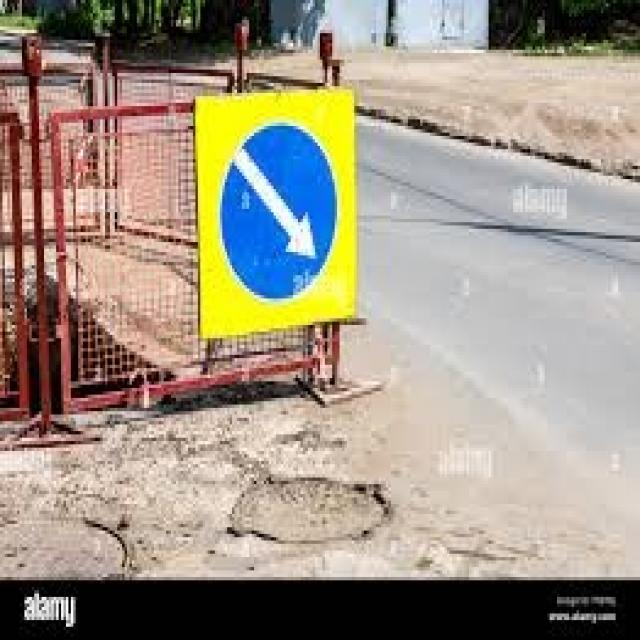compulsory_keep_right: (220, 119, 347, 309)
